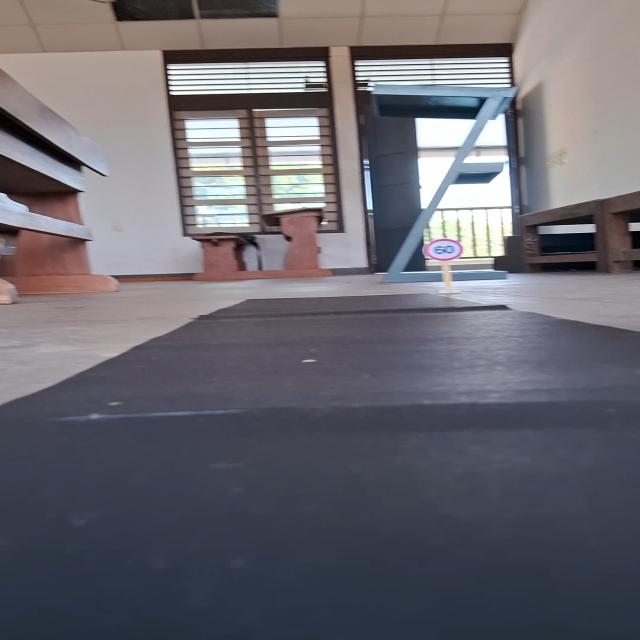Speed60: (420, 236, 468, 263)
